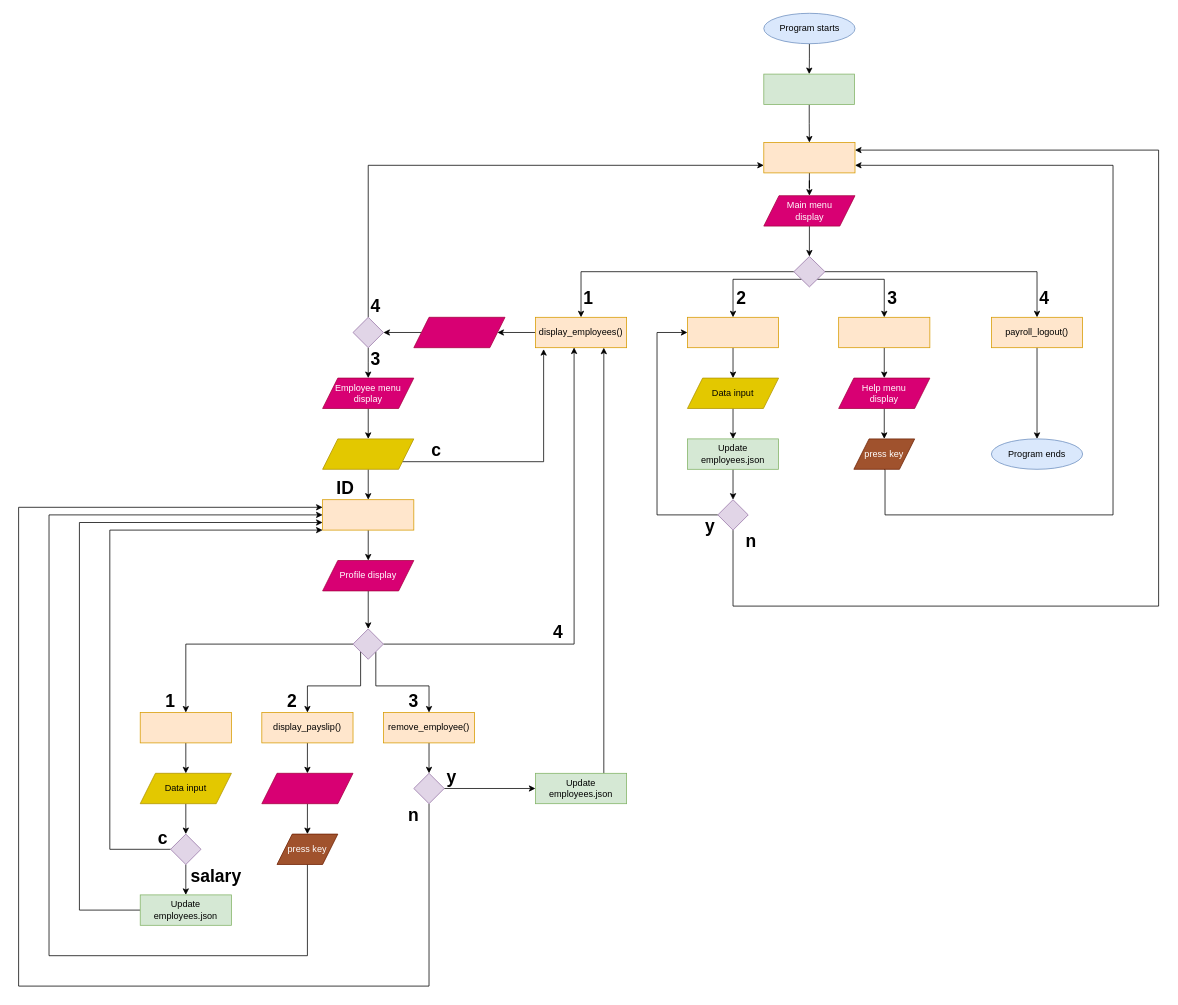
The diagram is 1178 pixels wide and 1005 high, and some of its shapes have lost their labels. Each missing label, with the box of its shape:
add_new_employee(): (687, 317, 779, 348)
display_help(): (838, 317, 930, 348)
display_main_menu(): (763, 142, 855, 173)
display_profile(): (322, 499, 414, 530)
edit_details(): (139, 712, 231, 743)
Employee list display: (413, 317, 505, 348)
ID input: (322, 438, 414, 469)
Load employee.json: (763, 73, 855, 104)
Payslip display: (261, 773, 353, 804)
